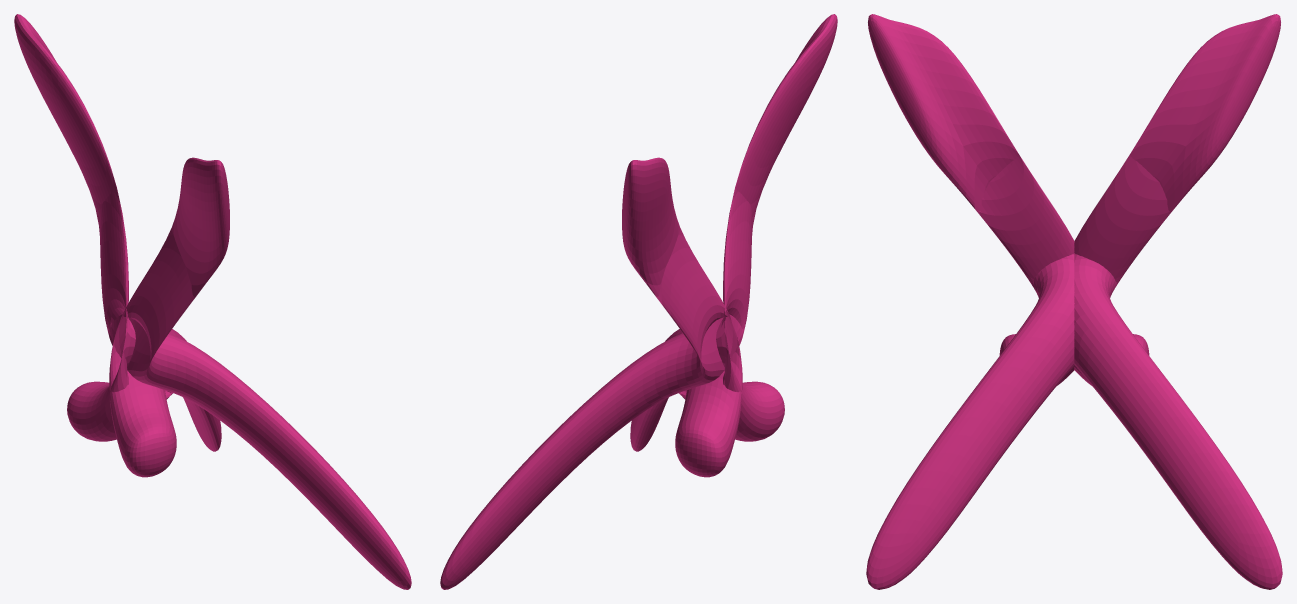
File: Creaturestruc9.obj
3 views of the same model, side by side, from view 1: azimuth 30°, elevation 25°; view 2: azimuth 150°, elevation 25°; view 3: azimuth 270°, elevation 25° (orthographic).
Parts seen in each view (by area): view 1: Cube_Cube.010; view 2: Cube_Cube.010; view 3: Cube_Cube.010.
Boxes of the visible parts, box(x1,y1,x2,y2) form: Cube_Cube.010: box(14, 14, 411, 589); Cube_Cube.010: box(440, 14, 837, 589); Cube_Cube.010: box(866, 14, 1282, 589).
Bounding box in the file's own units: 7.2 × 15.43 × 12.09.
